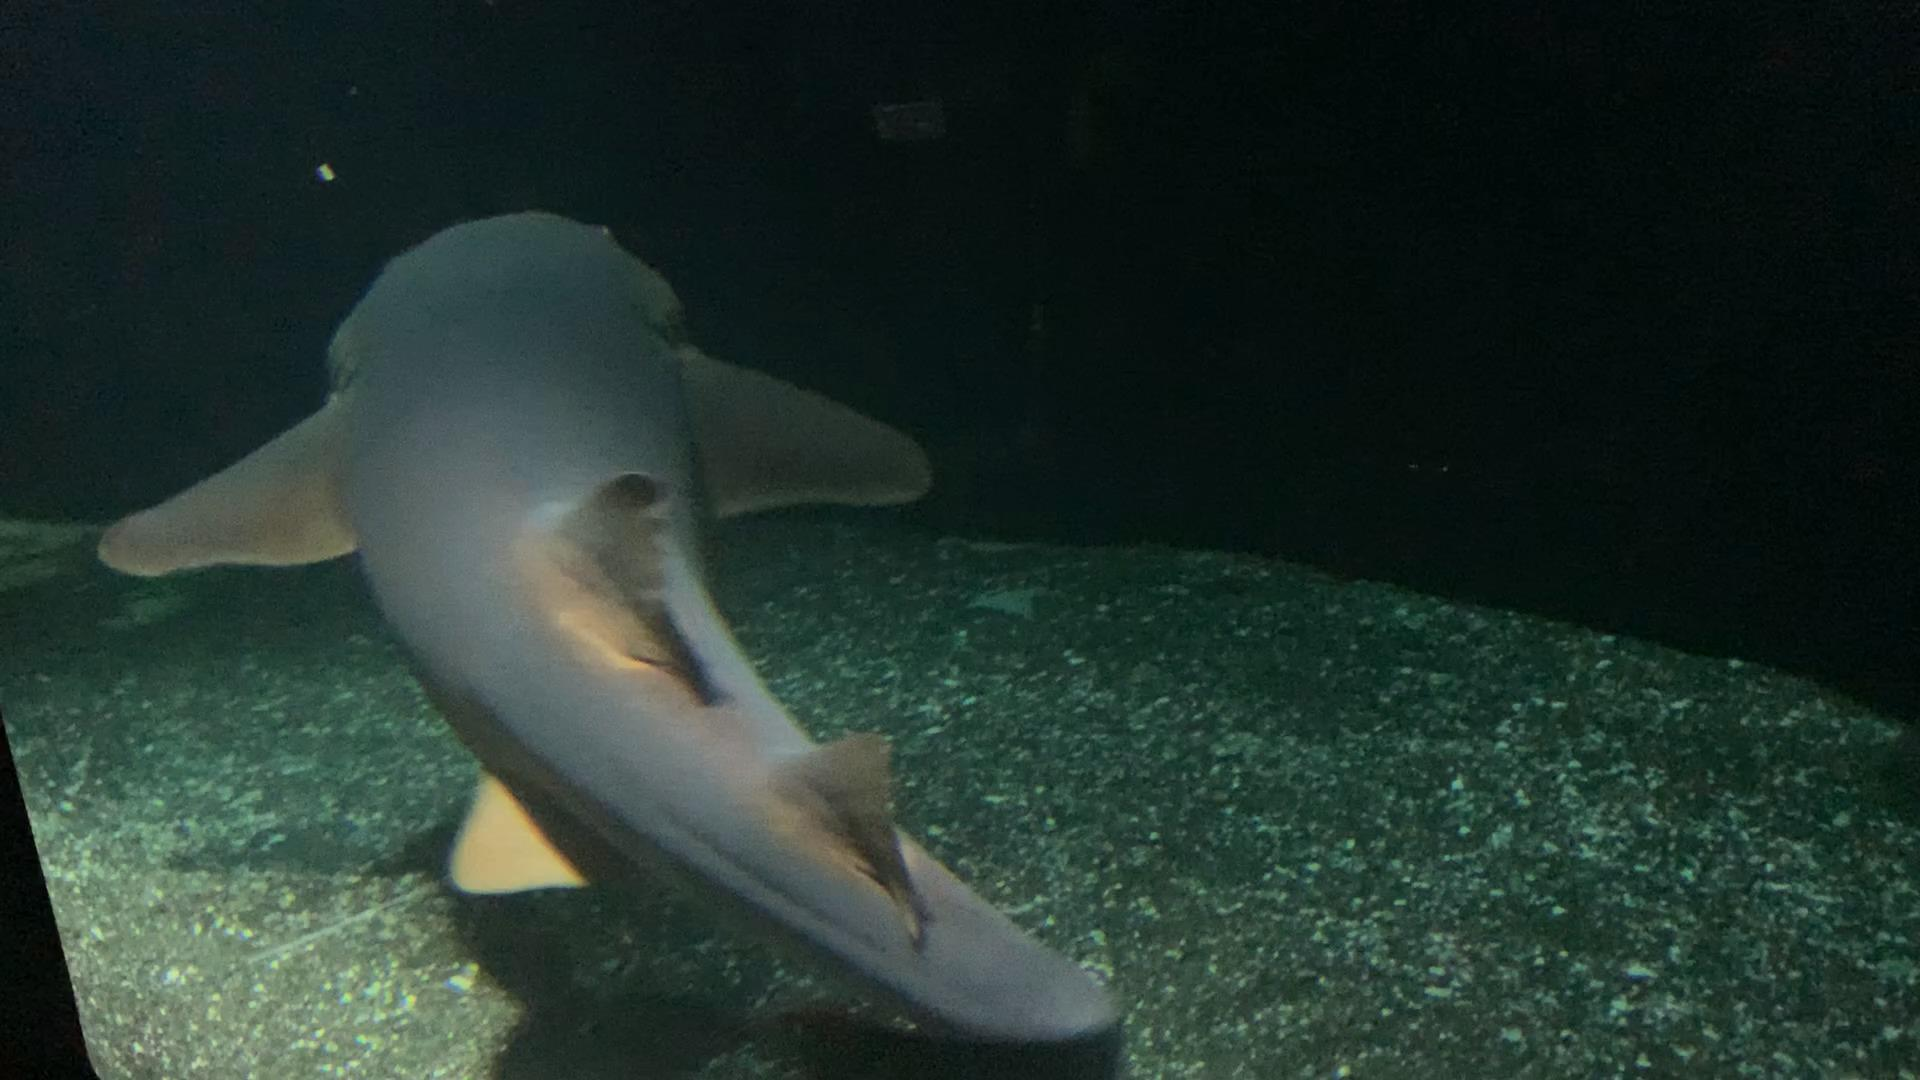shark: (94, 202, 1138, 1060)
